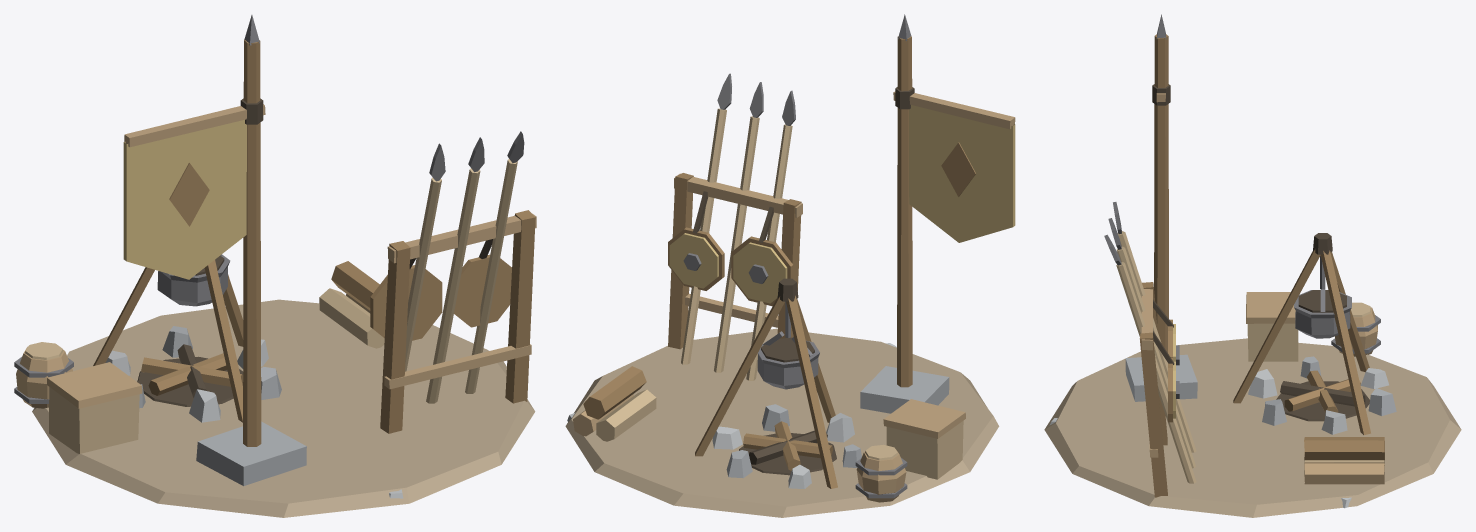
3 views of the same model, side by side, from view 1: azimuth 30°, elevation 25°; view 2: azimuth 150°, elevation 25°; view 3: azimuth 270°, elevation 25° (orthographic). The views are drawn at different scales.
Visible parts, largest first — view 1: wc_camp; view 2: wc_camp; view 3: wc_camp.
Boxes of the visible parts, x1=… form: wc_camp: x1=14, y1=15, x2=536, y2=517; wc_camp: x1=565, y1=14, x2=1015, y2=517; wc_camp: x1=1044, y1=14, x2=1461, y2=517.
Size of the model in its own units: 2.51 by 2.53 by 2.51.
